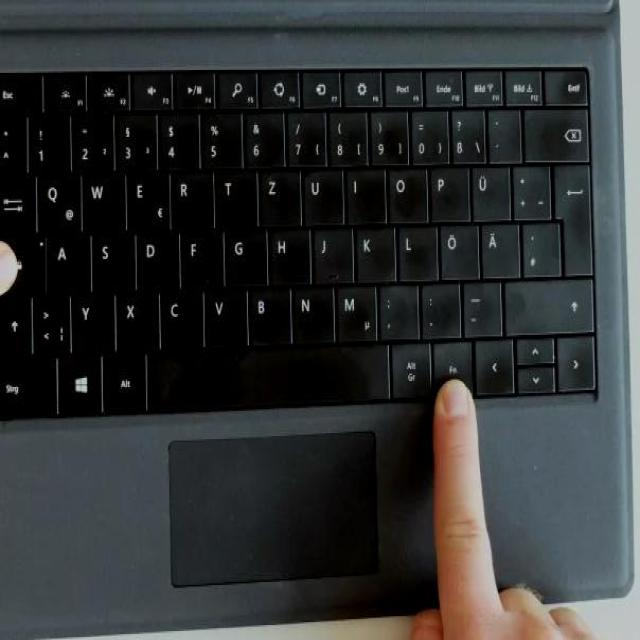0: (407, 103, 445, 161)
1: (25, 109, 67, 168)
2: (69, 109, 112, 168)
3: (112, 107, 154, 167)
4: (156, 107, 196, 165)
5: (198, 106, 240, 165)
6: (241, 106, 282, 165)
7: (284, 106, 323, 164)
8: (326, 104, 364, 164)
9: (367, 104, 405, 162)
a: (46, 229, 88, 289)
accent: (484, 101, 518, 159)
ae: (477, 216, 516, 274)
alt-left: (101, 349, 144, 410)
altgr-right: (388, 336, 429, 396)
b: (246, 281, 288, 341)
c: (158, 285, 201, 346)
caret: (0, 110, 22, 169)
comma: (375, 277, 414, 336)
d: (133, 226, 177, 286)
del: (521, 101, 588, 159)
e: (124, 165, 167, 228)
enter: (550, 158, 590, 272)
f: (178, 225, 220, 286)
g: (222, 223, 264, 283)
h: (266, 222, 307, 283)
hash: (524, 220, 562, 277)
i: (342, 162, 383, 219)
j: (309, 220, 350, 280)
k: (352, 221, 392, 279)
keyboard: (0, 57, 600, 432)
l: (395, 219, 434, 277)
less: (32, 289, 69, 351)
m: (333, 278, 372, 338)
minus: (459, 275, 500, 335)
n: (289, 280, 331, 341)
o: (383, 161, 424, 219)
oe: (435, 217, 476, 277)
p: (426, 160, 466, 218)
plus: (509, 158, 548, 216)
point: (416, 277, 457, 333)
q: (34, 168, 78, 229)
r: (168, 165, 211, 226)
s: (89, 228, 132, 289)
shift-left: (0, 290, 29, 353)
shift-lock: (0, 230, 42, 290)
shift-right: (500, 273, 591, 331)
space: (145, 339, 387, 414)
ss: (447, 103, 481, 161)
strg-left: (0, 351, 55, 417)
t: (213, 165, 254, 223)
tab: (0, 168, 33, 231)
u: (299, 162, 340, 222)
ue: (468, 160, 507, 218)
v: (201, 284, 245, 344)
w: (79, 167, 122, 228)
x: (113, 286, 156, 347)
y: (69, 288, 112, 349)
z: (256, 164, 298, 223)
